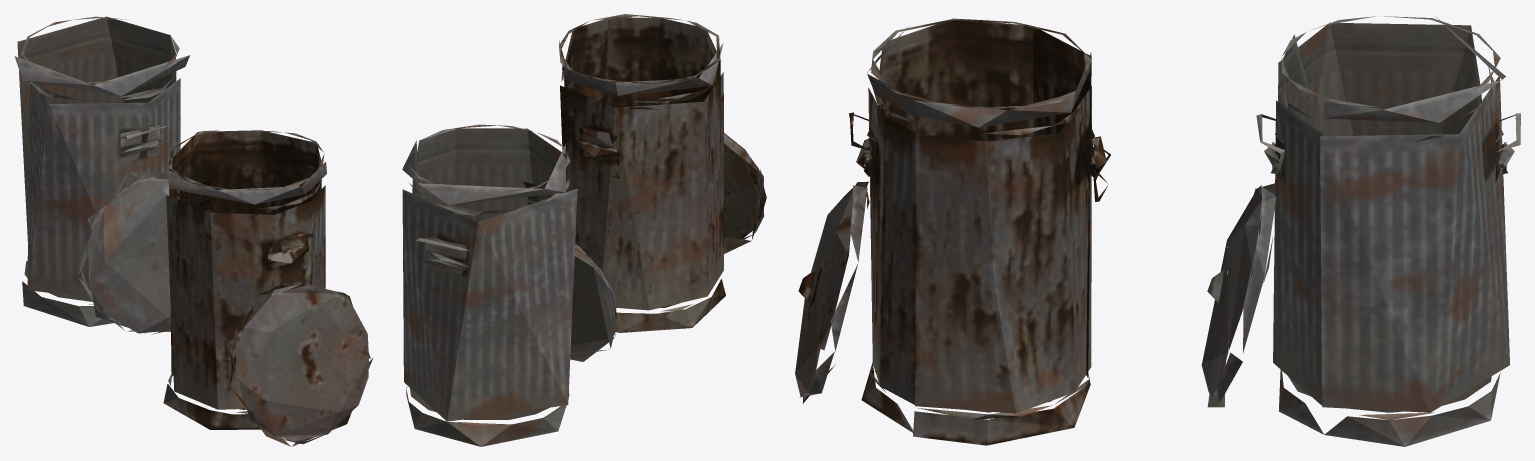
Rendered from prop_trashcan.glb.
3 views of the same model, side by side, from view 1: azimuth 30°, elevation 25°; view 2: azimuth 150°, elevation 25°; view 3: azimuth 270°, elevation 25° (orthographic). The views are drawn at different scales.
Parts seen in each view (by area): view 1: hull; view 2: hull; view 3: hull.
Boxes of the visible parts, x1=… form: hull: x1=14, y1=16, x2=372, y2=446; hull: x1=402, y1=14, x2=766, y2=446; hull: x1=795, y1=15, x2=1520, y2=446.
Size of the model in its own units: 0.683 by 1.02 by 2.
1 material, 1 textured.
